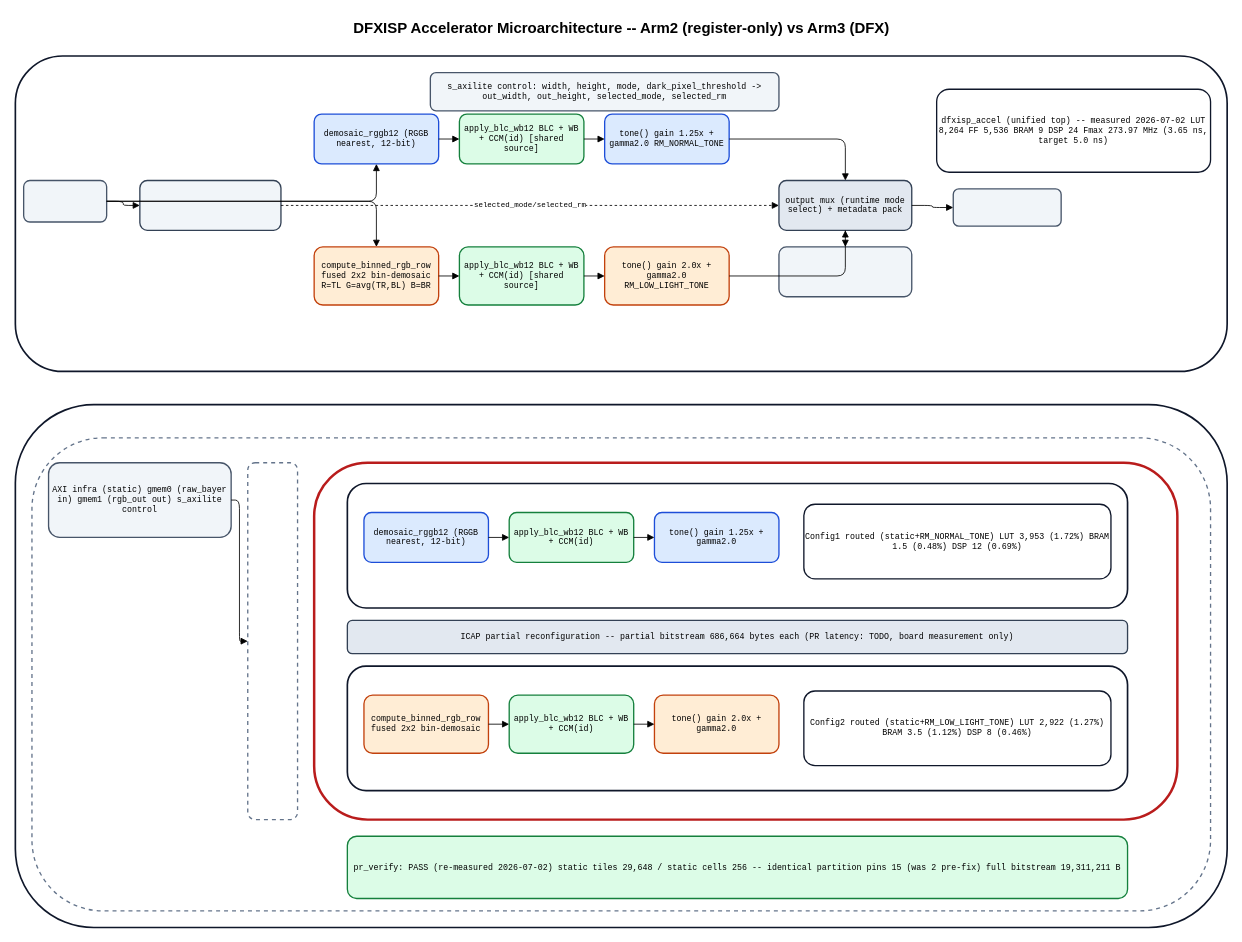
Some shapes in this 1242 by 942 pixel diagram are drawn without their labels. The shapes that lost their labels are listed below. From the top down, each one's box as (x1, y1, x2, y2) in pixels, then its label:
(23, 179, 107, 222): raw_bayer (m_axi gmem0)
(139, 179, 281, 231): Scene checker mode = f(dark_ratio, dark_pixel_threshold)
(952, 188, 1061, 226): rgb_out (m_axi gmem1)
(778, 246, 912, 297): metadata out (4 scalar ptrs) out_width/out_height/ selected_mode/selected_rm
(247, 462, 298, 820): partition pins x 15
